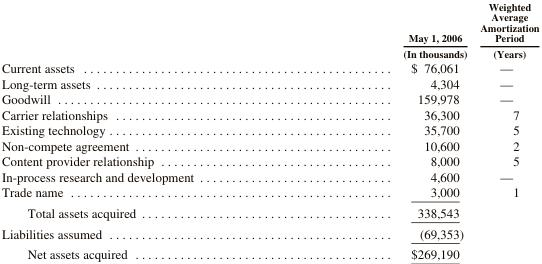table: (0, 0, 538, 261)
table column: (0, 0, 297, 261), (297, 0, 472, 261), (472, 0, 538, 261)
table column header: (0, 0, 538, 59)
table row: (0, 0, 538, 59), (0, 222, 538, 243), (0, 202, 538, 222), (0, 184, 538, 202), (0, 243, 538, 261), (0, 59, 538, 75), (0, 90, 538, 106), (0, 106, 538, 122), (0, 137, 538, 153), (0, 168, 538, 184), (0, 75, 538, 90), (0, 122, 538, 137), (0, 153, 538, 168)
